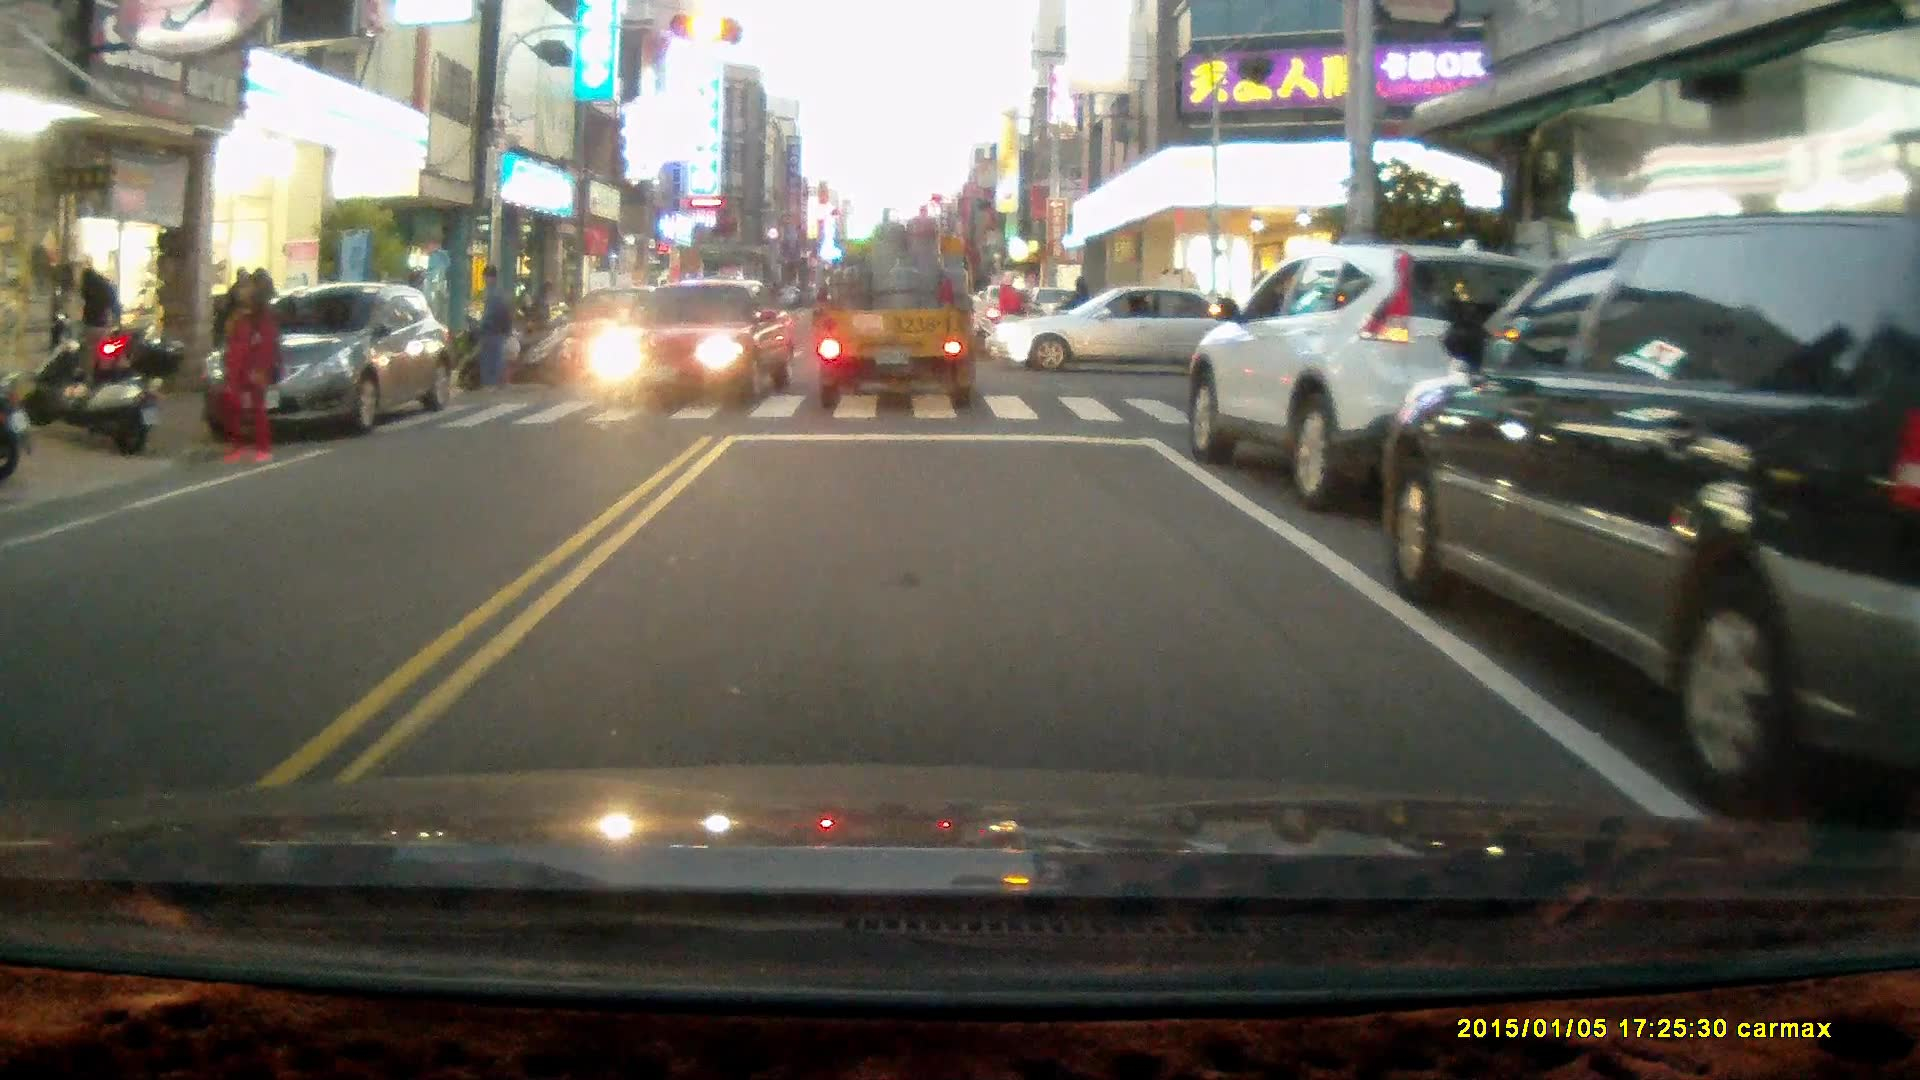pedestrian: (208, 271, 283, 465), (469, 267, 515, 399), (75, 264, 122, 384)
rider: (969, 266, 1055, 356)
vehicle: (1390, 213, 1920, 810), (1187, 245, 1594, 512), (203, 286, 445, 448), (815, 202, 990, 418), (587, 279, 799, 411), (1000, 287, 1271, 375)
